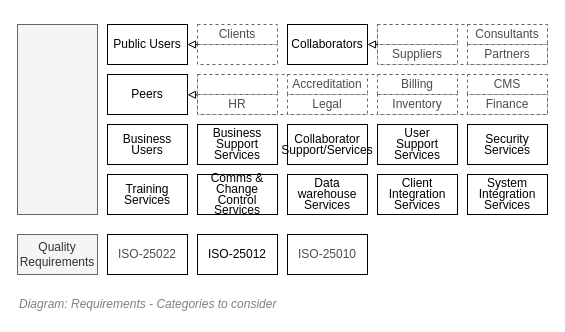
The diagram is 565 pixels wide and 332 high, and some of its shapes have lost their labels. Each missing label, with the centre of its shape:
"Bidders" belongs at pixel 417 34.
"Customers" belongs at pixel 237 54.
"Functional Requirements" belongs at pixel 57 119.
"Procurement" belongs at pixel 237 84.
